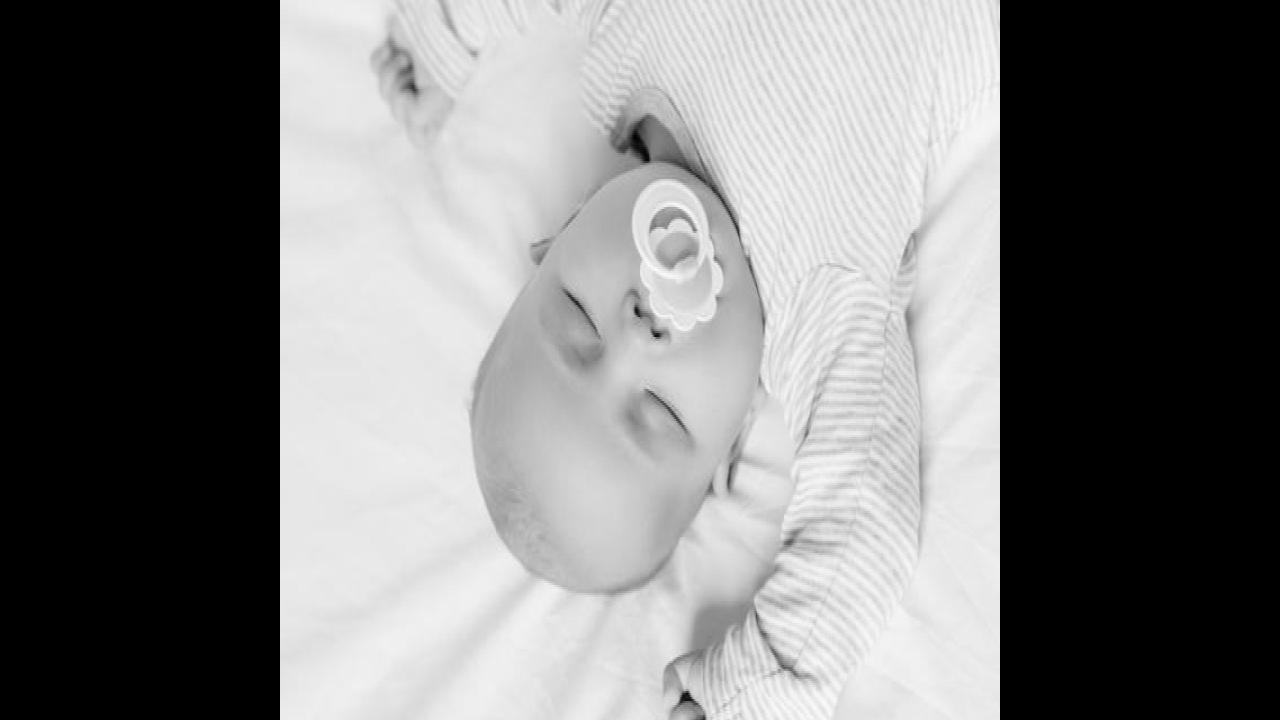hand: (370, 10, 458, 147), (662, 650, 721, 720)
